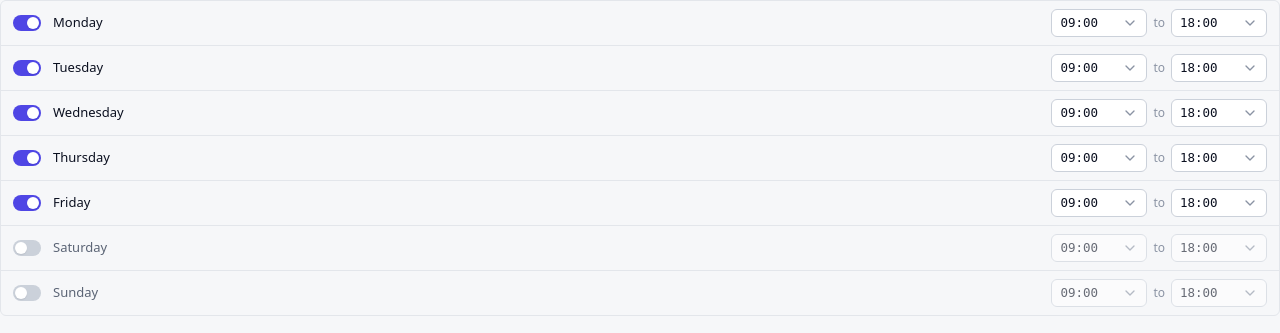
Test: CallingHoursEditor › toggles a day and enables its window
Click the switch named "Calls on Saturday" at point(27, 248), box [13,240,41,256]
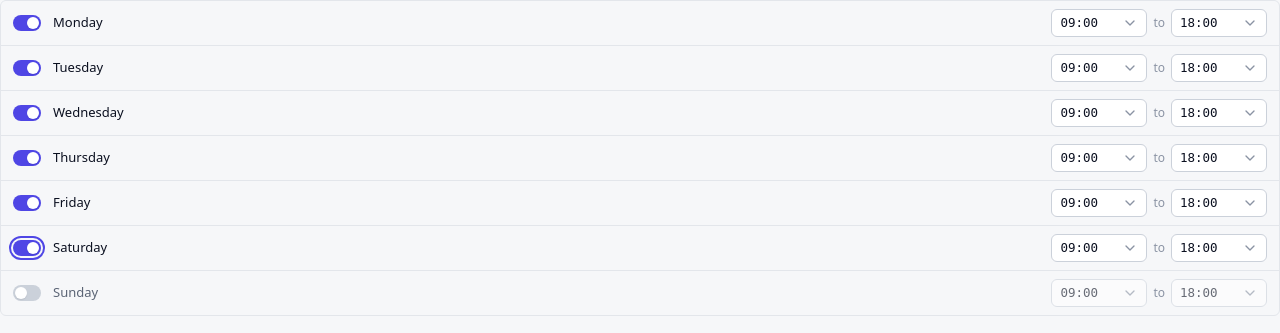
Now the dropdown named "Saturday from" is enabled, box [1051,234,1147,262]
